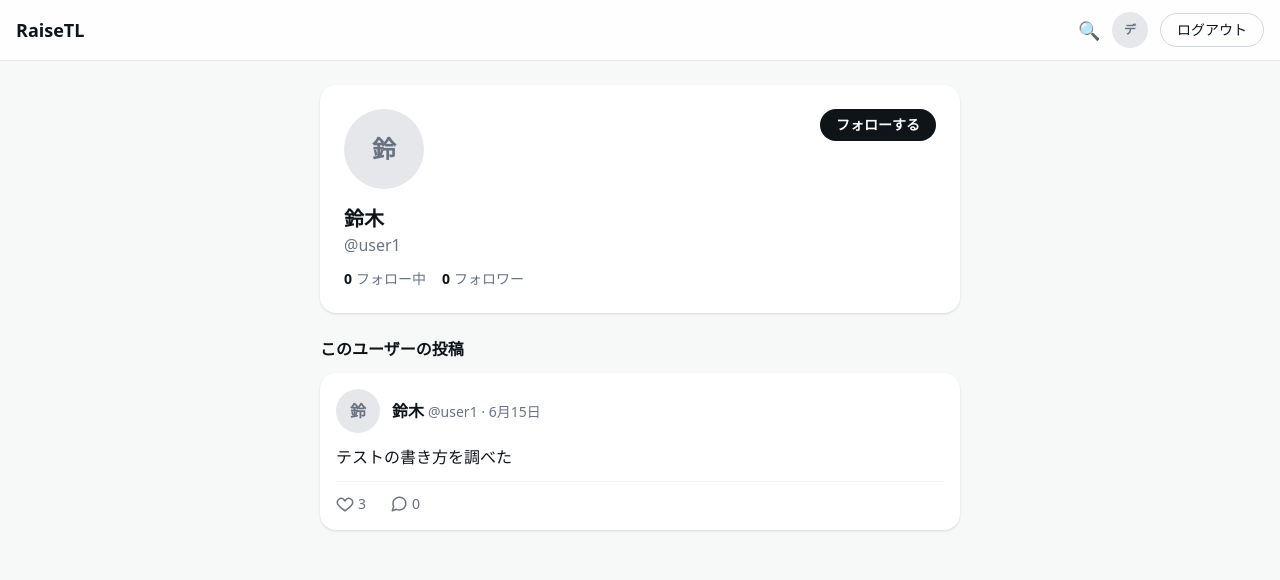
Test: ProfilePage — 失敗したあとに操作をやり直したとき › いいねをやり直して成功すると、前のエラーメッセージが消える
The width and height of the screenshot is (1280, 580).
Click the button "3": (351, 504) x1=336 y1=494 x2=366 y2=514
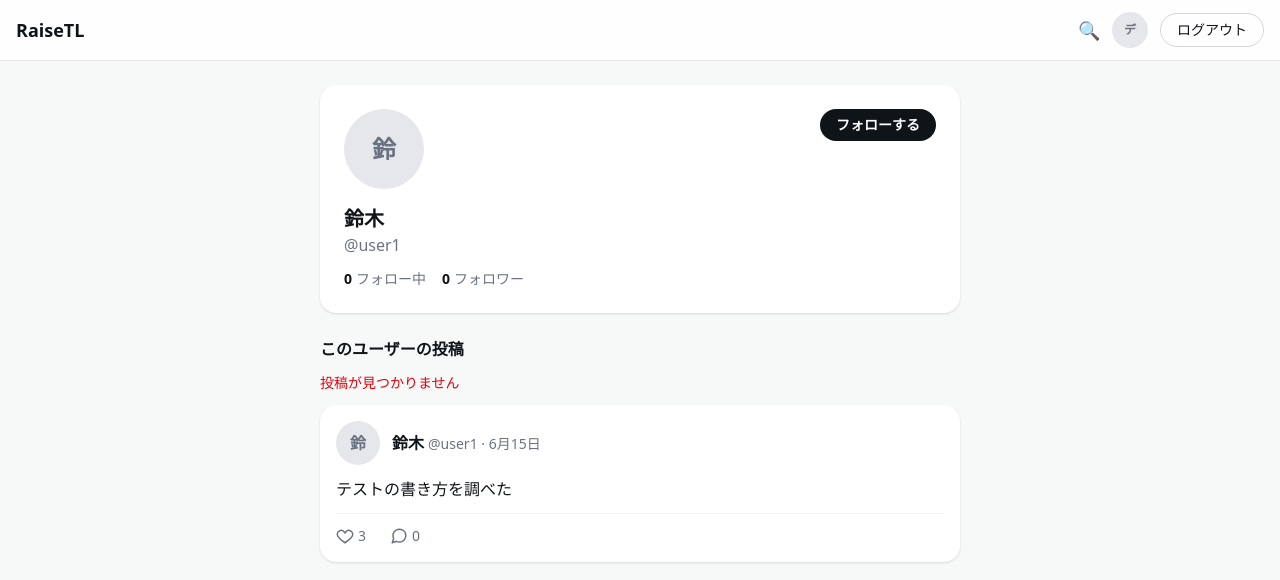
Check: the text "投稿が見つかりません" is shown, box x1=320 y1=373 x2=460 y2=392
Click the button "3": (351, 536) x1=336 y1=526 x2=366 y2=546
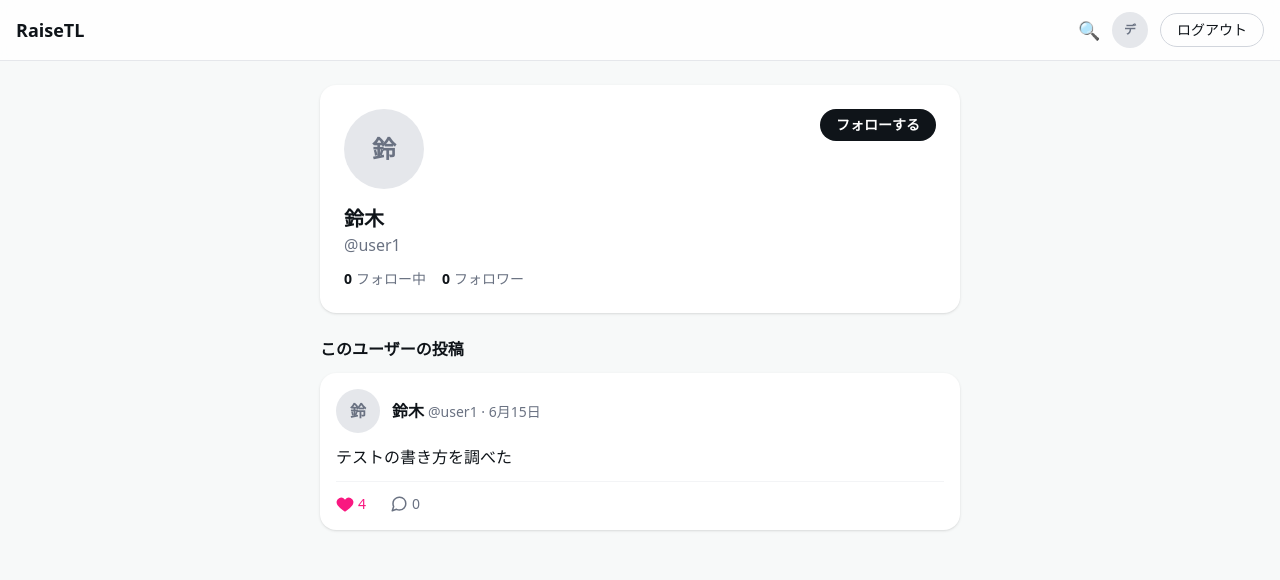
Check: the button "4" is shown, box x1=336 y1=494 x2=366 y2=514
Check: the text "投稿が見つかりません" is gone
